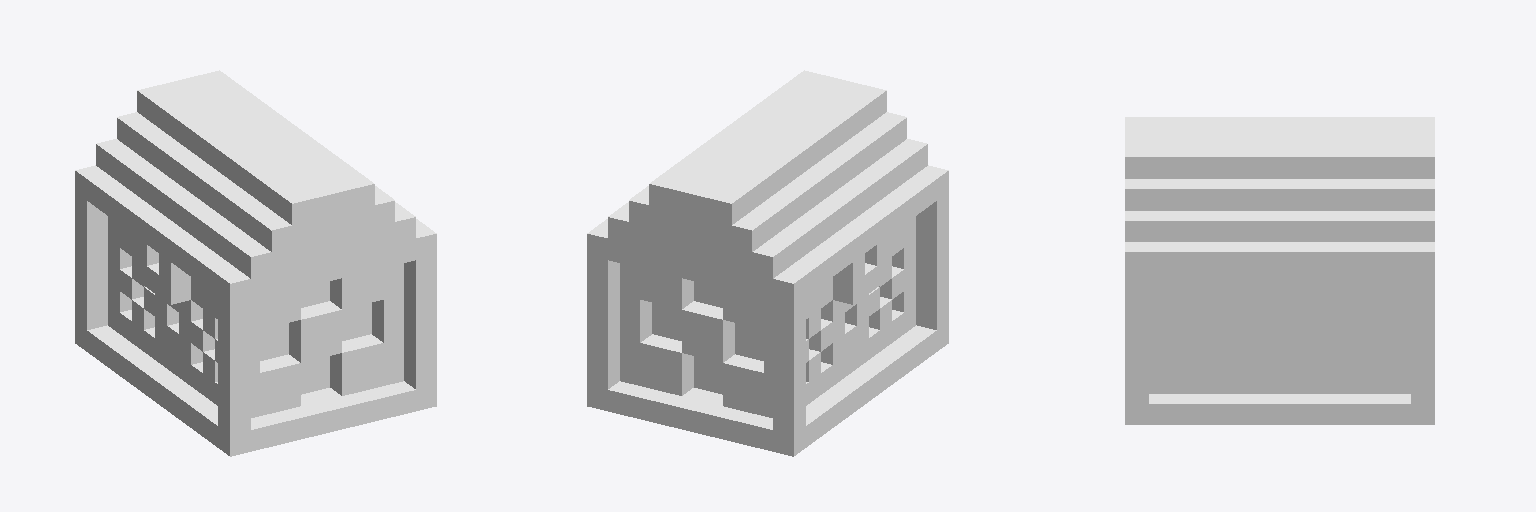
The model's file is cofre.obj.
3 views of the same model, side by side, from view 1: azimuth 30°, elevation 25°; view 2: azimuth 150°, elevation 25°; view 3: azimuth 270°, elevation 25° (orthographic).
Parts seen in each view (by area): view 1: ObjObject; view 2: ObjObject; view 3: ObjObject.
Part boxes in pixels (bbox=[...]): ObjObject: bbox=[75, 70, 436, 456]; ObjObject: bbox=[587, 70, 948, 456]; ObjObject: bbox=[1125, 117, 1434, 424].
Bounding box in the file's own units: 1 × 1.1 × 1.3.